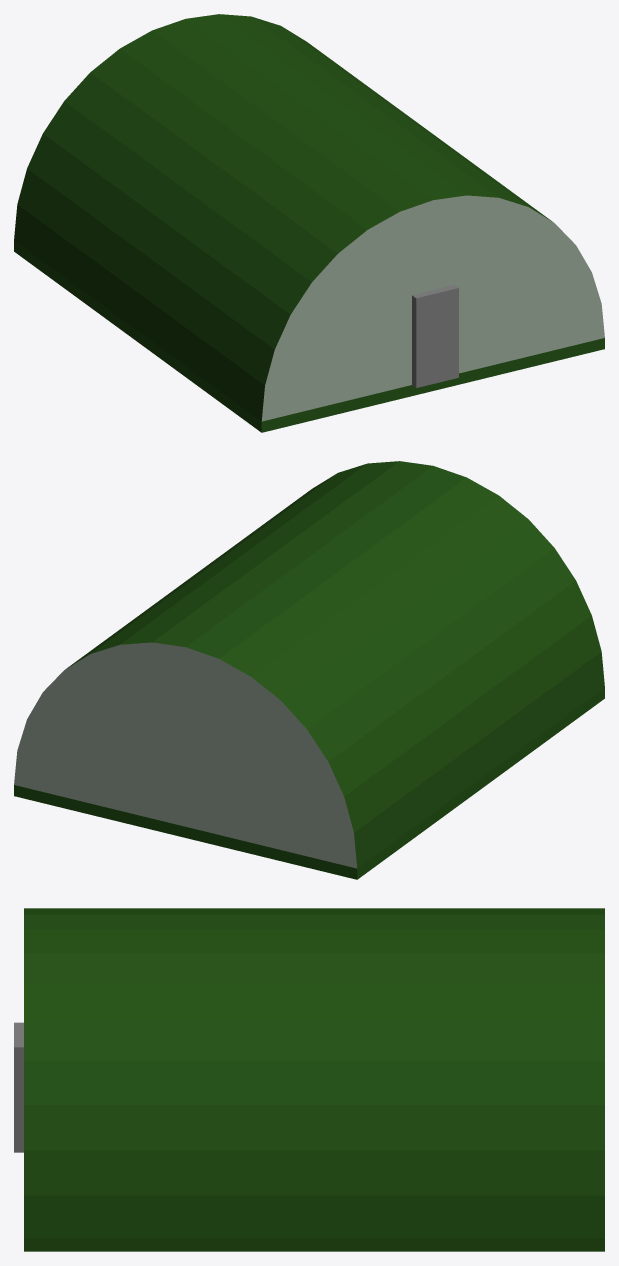
The model's file is barrack_1.glb.
3 views of the same model, one above another, from view 1: azimuth 30°, elevation 25°; view 2: azimuth 150°, elevation 25°; view 3: azimuth 270°, elevation 25° (orthographic). The views are drawn at different scales.
Parts seen in each view (by area): view 1: Zylinder, Würfel; view 2: Zylinder; view 3: Zylinder, Würfel.
Boxes of the visible parts, x1=… form: Zylinder: x1=14, y1=14, x2=604, y2=432; Würfel: x1=412, y1=284, x2=458, y2=387; Zylinder: x1=14, y1=461, x2=604, y2=879; Zylinder: x1=24, y1=908, x2=604, y2=1251; Würfel: x1=14, y1=1022, x2=23, y2=1152.
Size of the model in its own units: 0.8 by 0.425 by 1.02.
